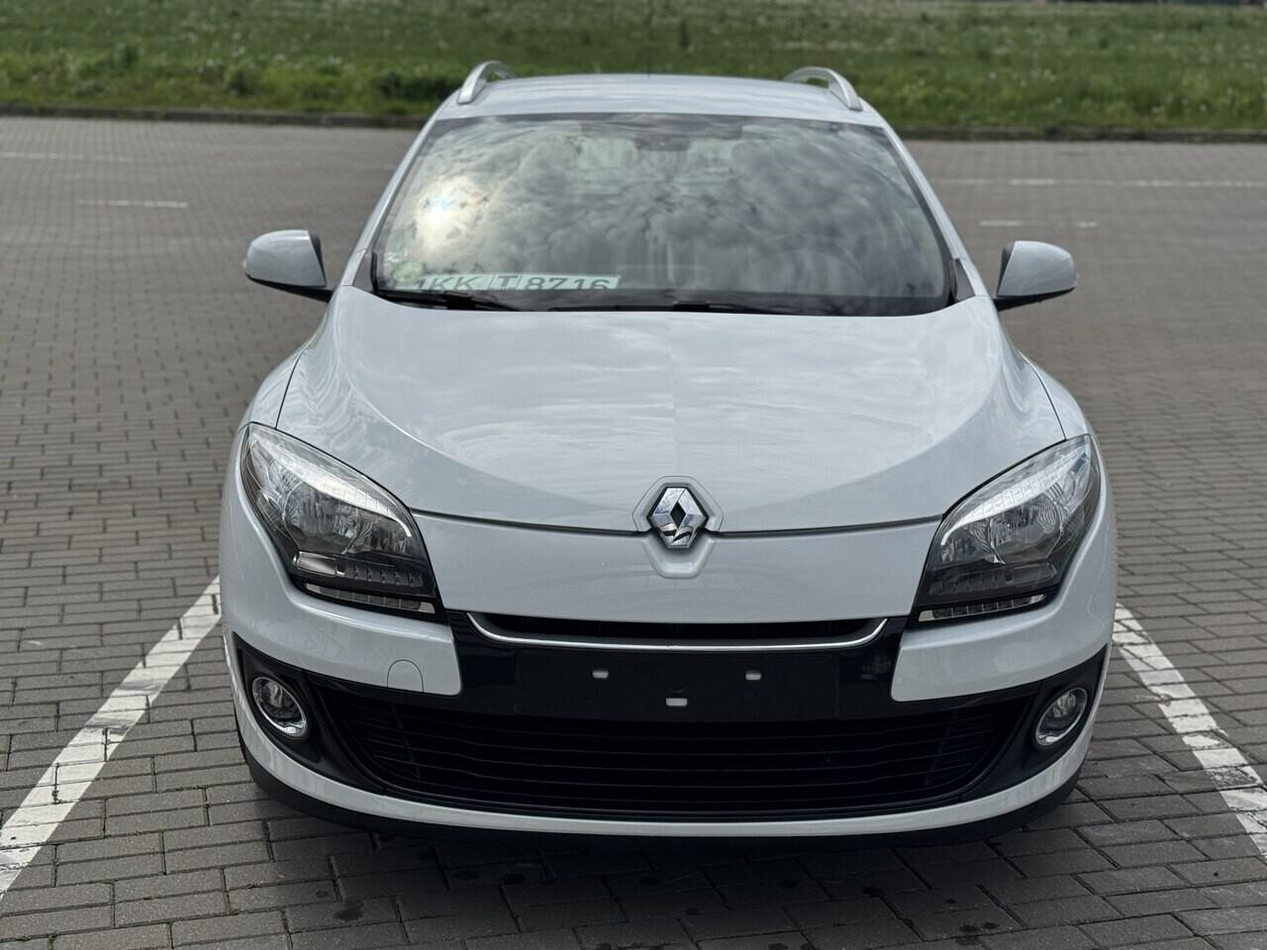Megane_2012-2014: (200, 59, 1132, 865)
